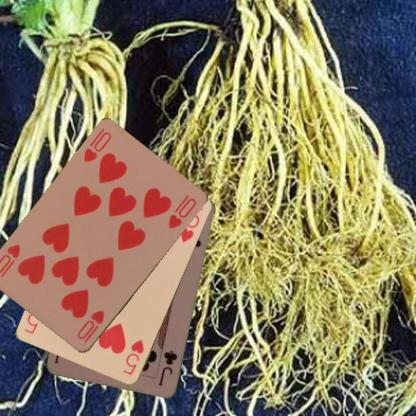10h: (74, 307, 106, 345), (80, 130, 113, 165)
5h: (120, 337, 146, 377)
Jc: (156, 348, 179, 387)
